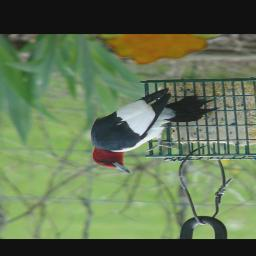Woodpecker: (91, 88, 220, 174)
